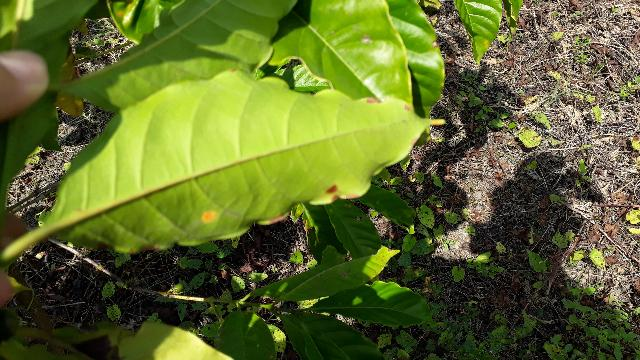rust_level_1: (42, 69, 451, 251)
